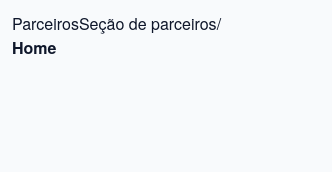
mantém o prefixo do Pages ao navegar e ao abrir novamente uma página interna
The image size is (332, 172).
Later steps or results of the test are not shown.
Expected: the heading "Home" is shown, [12,36,56,59]
Click the link "Parceiros": [45, 24] box [12,12,79,35]
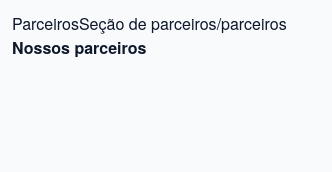
Result: the heading "Nossos parceiros" is shown at [12,36,146,59]
